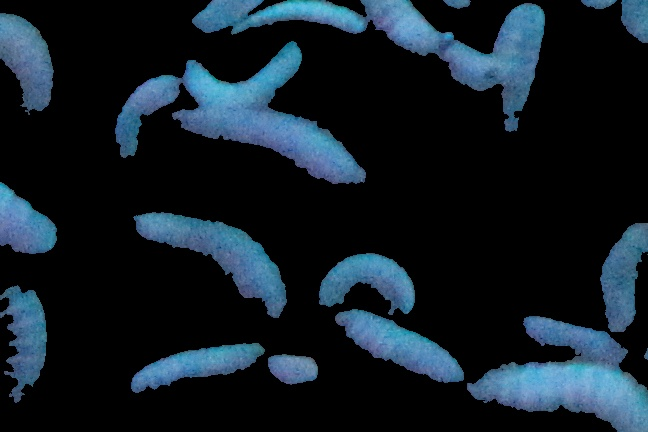larvae: (154, 80, 371, 200), (126, 207, 301, 336), (322, 298, 469, 388), (478, 1, 559, 164), (470, 358, 648, 423), (176, 29, 311, 111), (307, 236, 422, 319), (118, 341, 277, 401), (110, 65, 181, 170), (335, 1, 446, 66), (1, 281, 57, 405), (208, 1, 367, 41), (598, 218, 648, 339), (1, 14, 62, 113), (516, 308, 626, 362), (1, 180, 69, 260)
